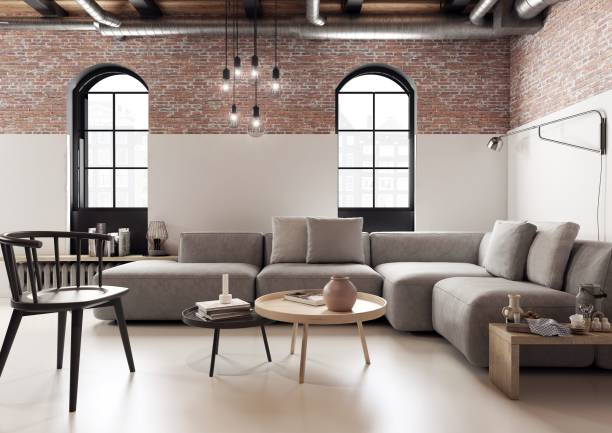chair: (0, 229, 136, 414)
floor lamp: (486, 108, 611, 241)
sofa: (88, 213, 612, 372)
table: (253, 290, 389, 384), (485, 314, 612, 402), (179, 303, 274, 380)
